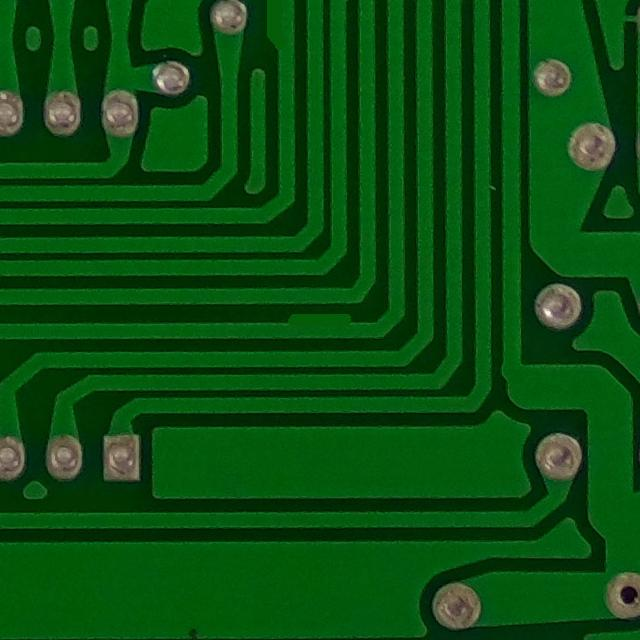spur: (279, 303, 362, 337)
